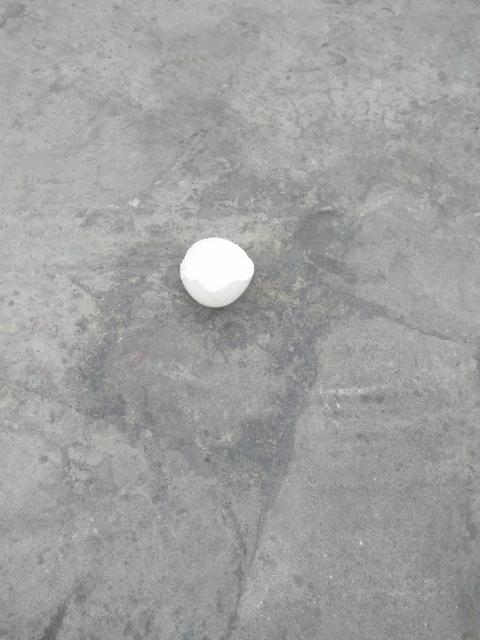Roto: (178, 236, 255, 308)
